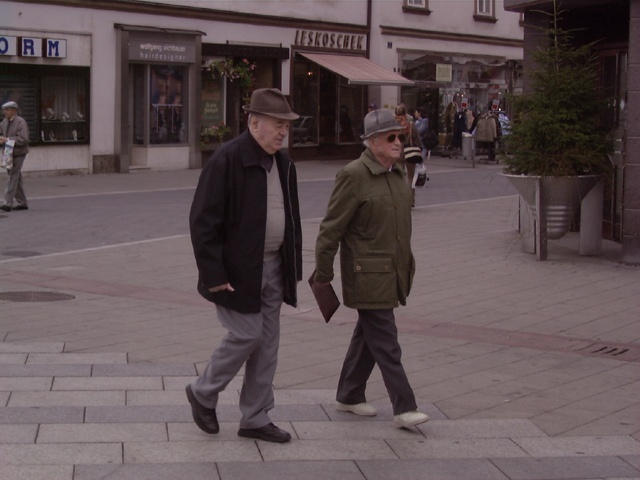person: (183, 82, 305, 446), (318, 103, 429, 431)
